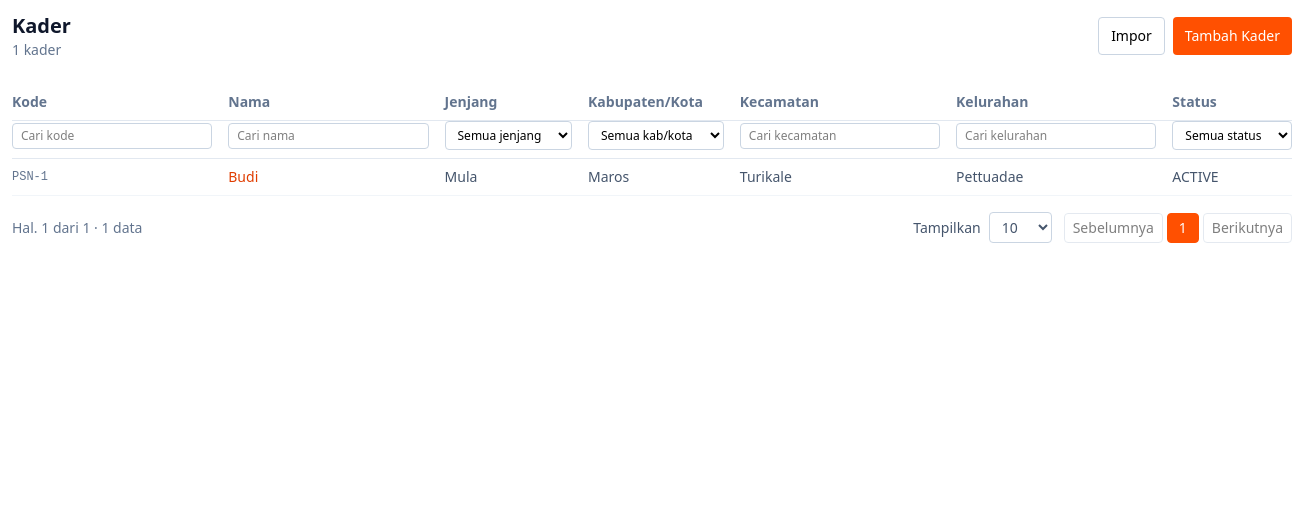
Test case: CadresPage header filters › uses the shared import panel
The width and height of the screenshot is (1304, 514).
Click the button "Impor" at [1131, 36], box [1098, 17, 1165, 55]
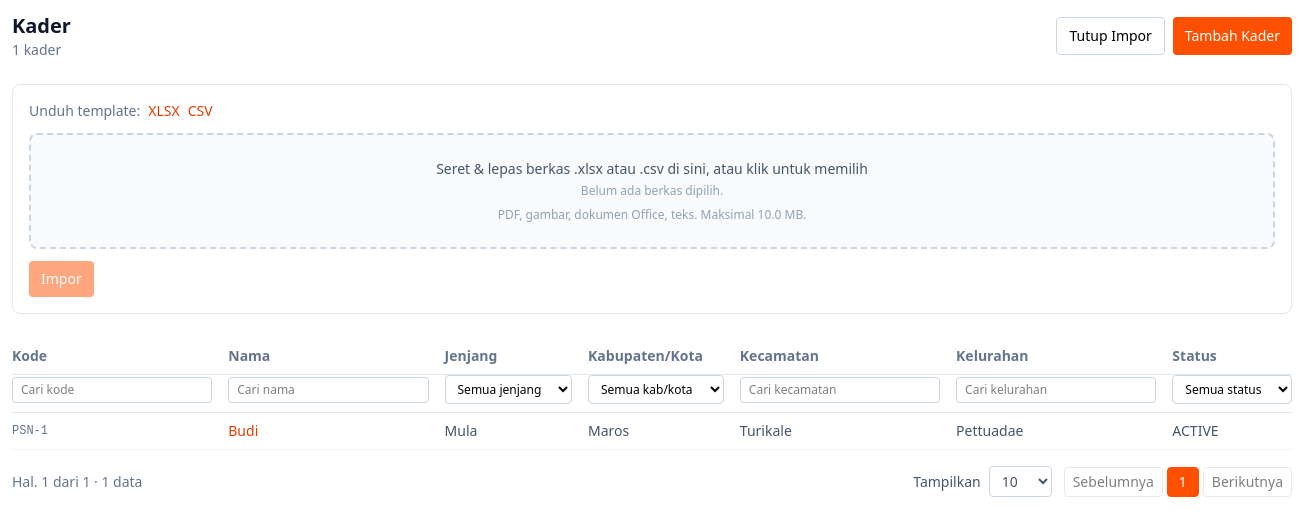
Expected: the text "Unduh template:" is shown, [29, 101, 140, 121]
